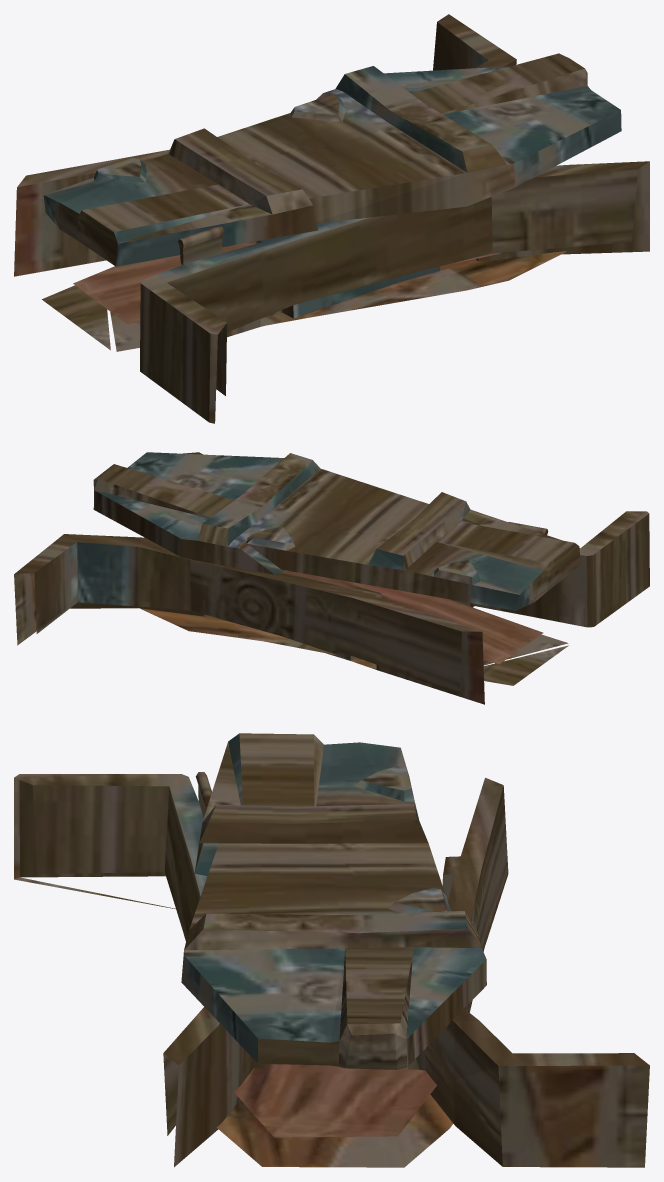
File: Coffin.glb
3 renders of one model, top to bottom at view 1: azimuth 30°, elevation 25°; view 2: azimuth 150°, elevation 25°; view 3: azimuth 270°, elevation 25°, orthographic. The views are drawn at different scales.
Visible parts, largest first — view 1: Coffin; view 2: Coffin; view 3: Coffin.
Part boxes in pixels (left/top/right/bottom): Coffin: left=14, top=14, right=649, bottom=423; Coffin: left=14, top=452, right=649, bottom=704; Coffin: left=14, top=733, right=649, bottom=1167.
Size of the model in its own units: 19.46 by 4.74 by 17.44.
Materials: 1 (1 with a texture image).
